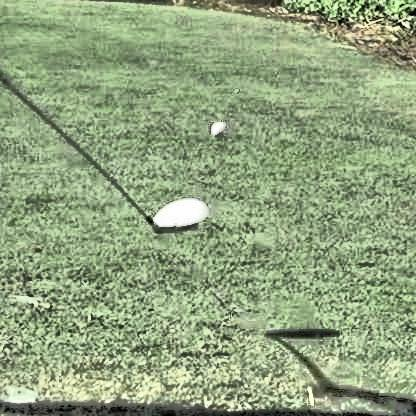golfball: (207, 117, 225, 137)
